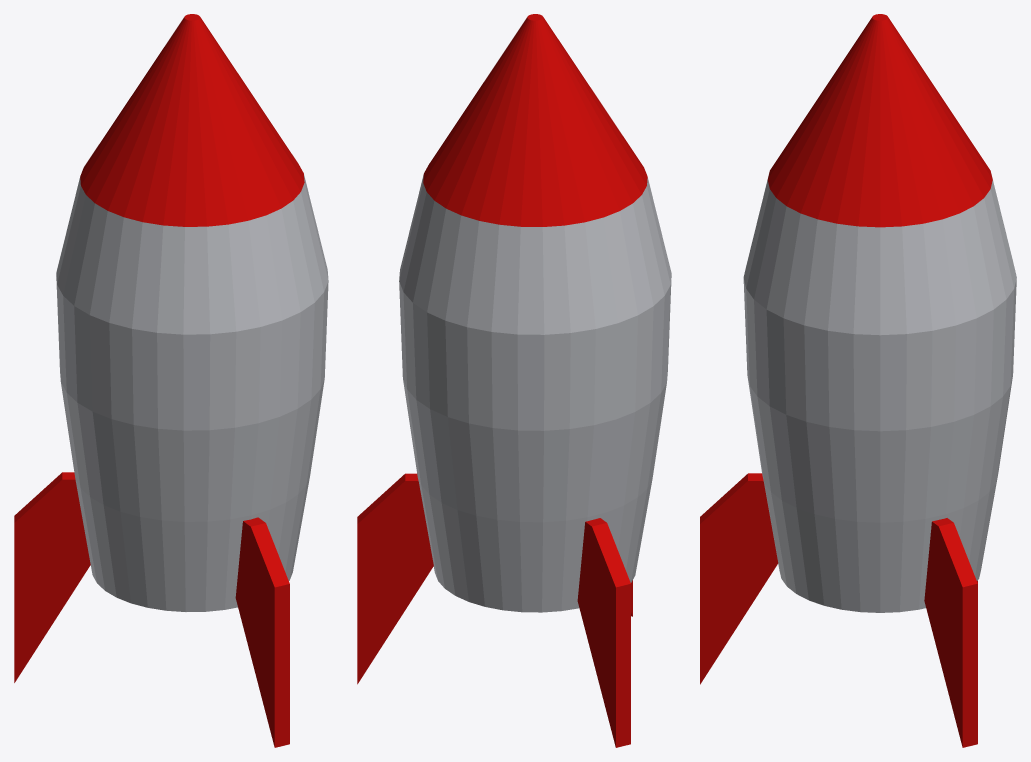
The model's file is raketa.obj.
3 renders of one model, left to right at view 1: azimuth 30°, elevation 25°; view 2: azimuth 150°, elevation 25°; view 3: azimuth 270°, elevation 25°, orthographic.
Visible parts, largest first — view 1: Cylinder, Cube.001, Cube.002; view 2: Cylinder, Cube, Cube.001; view 3: Cylinder, Cube.002, Cube.
Part boxes in pixels (x1=…): Cylinder: x1=56, y1=14, x2=328, y2=611; Cube.001: x1=14, y1=472, x2=90, y2=682; Cube.002: x1=235, y1=517, x2=289, y2=747; Cylinder: x1=399, y1=14, x2=671, y2=612; Cube: x1=357, y1=473, x2=433, y2=684; Cube.001: x1=577, y1=518, x2=630, y2=747; Cylinder: x1=743, y1=14, x2=1016, y2=612; Cube.002: x1=700, y1=473, x2=778, y2=684; Cube: x1=924, y1=518, x2=977, y2=747.
Size of the model in its own units: 2.81 by 6.51 by 2.81.
